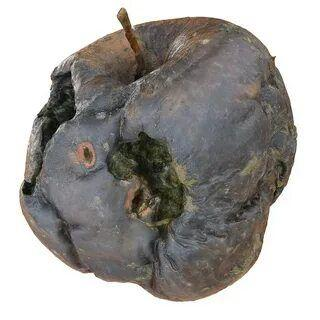Apple: (22, 20, 292, 302)
